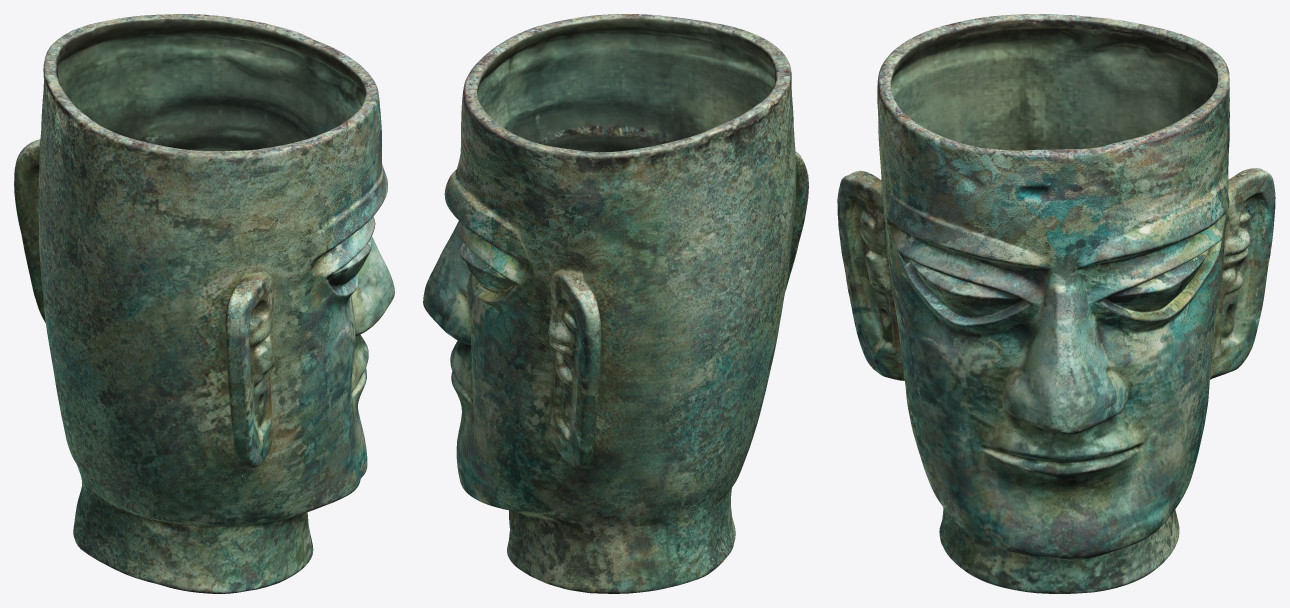
Rendered from bronze-head-web-mobile.glb.
3 renders of one model, left to right at view 1: azimuth 30°, elevation 25°; view 2: azimuth 150°, elevation 25°; view 3: azimuth 270°, elevation 25°, orthographic.
Visible parts, largest first — view 1: tripo_node_1d5d6238-d876-4f96-a7d3-8cf36552cf0d; view 2: tripo_node_1d5d6238-d876-4f96-a7d3-8cf36552cf0d; view 3: tripo_node_1d5d6238-d876-4f96-a7d3-8cf36552cf0d.
Boxes of the visible parts, left/top/right/bottom form: tripo_node_1d5d6238-d876-4f96-a7d3-8cf36552cf0d: left=14, top=14, right=394, bottom=593; tripo_node_1d5d6238-d876-4f96-a7d3-8cf36552cf0d: left=423, top=14, right=808, bottom=593; tripo_node_1d5d6238-d876-4f96-a7d3-8cf36552cf0d: left=837, top=14, right=1275, bottom=593.
Bounding box in the file's own units: 0.72 × 0.9802 × 0.8269.
Materials: 1 (1 with a texture image).
